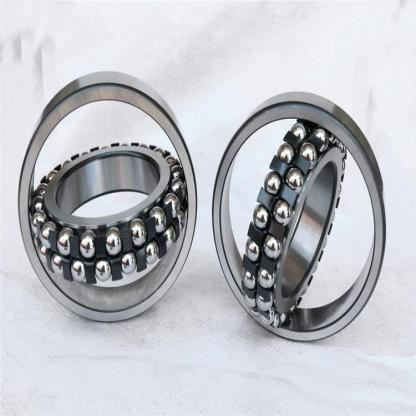FOD: (16, 65, 201, 329)
